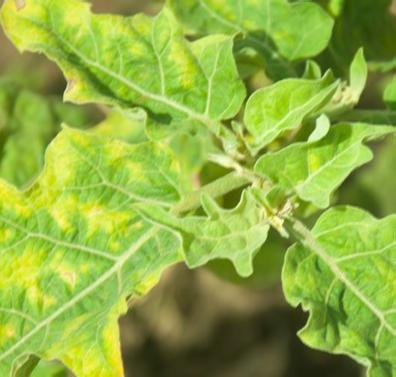Tomato leaf mosaic virus: (0, 127, 208, 377), (0, 0, 259, 139), (290, 182, 396, 377), (263, 109, 393, 214), (132, 187, 278, 267)
